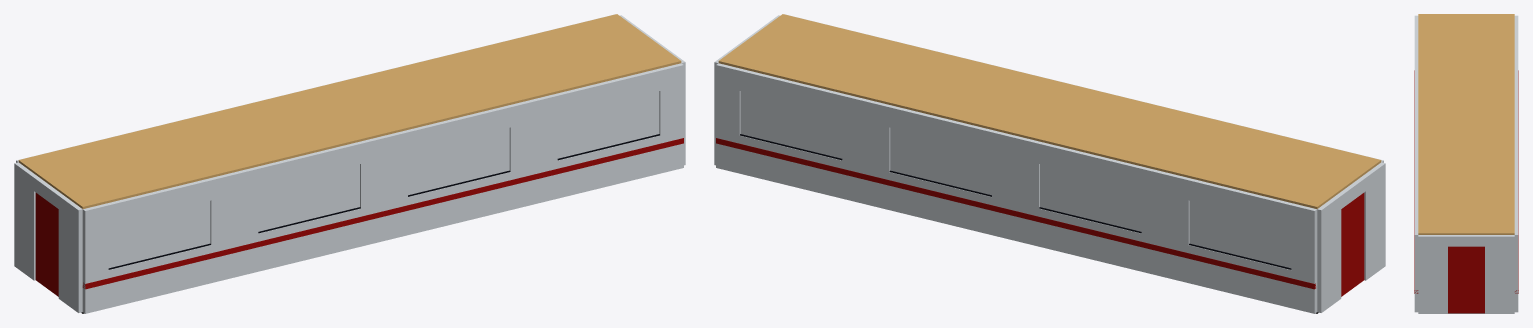
Rendered from train_interior.glb.
3 views of the same model, side by side, from view 1: azimuth 30°, elevation 25°; view 2: azimuth 150°, elevation 25°; view 3: azimuth 270°, elevation 25° (orthographic). The views are drawn at different scales.
Visible parts, largest first — view 1: SM_TR_WallS, SM_TR_Ceiling, SM_TR_Win_glass, SM_TR_Inside; view 2: SM_TR_WallN, SM_TR_Ceiling, SM_TR_Win_glass, SM_TR_Inside; view 3: SM_TR_Ceiling, SM_TR_Inside, SM_TR_WallN, SM_TR_WallS.
Part boxes in pixels (x1=…): SM_TR_WallS: x1=82, y1=63, x2=683, y2=313; SM_TR_Ceiling: x1=18, y1=14, x2=681, y2=208; SM_TR_Win_glass: x1=108, y1=91, x2=659, y2=268; SM_TR_Inside: x1=14, y1=15, x2=685, y2=313; SM_TR_WallN: x1=716, y1=63, x2=1317, y2=313; SM_TR_Ceiling: x1=718, y1=14, x2=1381, y2=208; SM_TR_Win_glass: x1=740, y1=91, x2=1291, y2=268; SM_TR_Inside: x1=714, y1=15, x2=1385, y2=313; SM_TR_Ceiling: x1=1418, y1=14, x2=1514, y2=234; SM_TR_Inside: x1=1418, y1=235, x2=1514, y2=313; SM_TR_WallN: x1=1514, y1=15, x2=1518, y2=312; SM_TR_WallS: x1=1414, y1=15, x2=1418, y2=312.
Bounding box in the file's own units: 14.2 × 2.39 × 2.81.
Materials: 5 (5 with a texture image).
